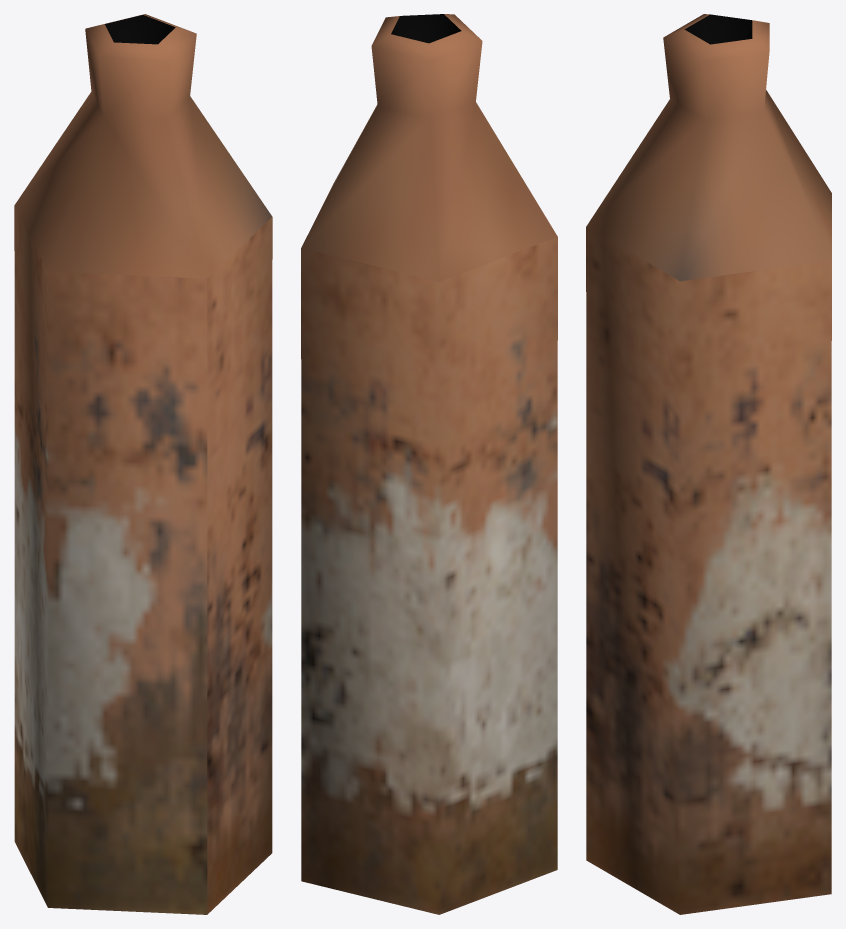
Rendered from Garbage1_8_LOD1.fbx.
3 renders of one model, left to right at view 1: azimuth 30°, elevation 25°; view 2: azimuth 150°, elevation 25°; view 3: azimuth 270°, elevation 25°, orthographic.
Parts seen in each view (by area): view 1: polySurface45; view 2: polySurface45; view 3: polySurface45.
Boxes of the visible parts, bbox=[...] form: polySurface45: bbox=[14, 14, 272, 914]; polySurface45: bbox=[301, 14, 557, 914]; polySurface45: bbox=[586, 14, 831, 914].
Bounding box in the file's own units: 0.4826 × 1.71 × 0.459.
